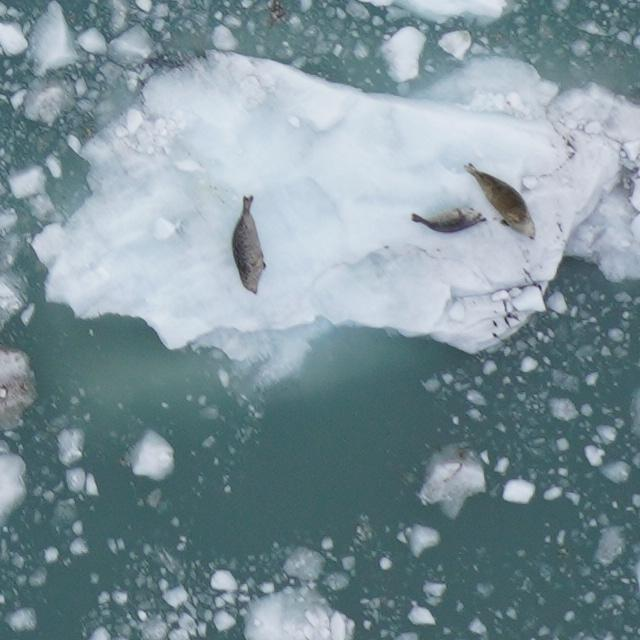seal: (460, 159, 541, 243), (228, 189, 272, 302), (408, 203, 491, 238)
